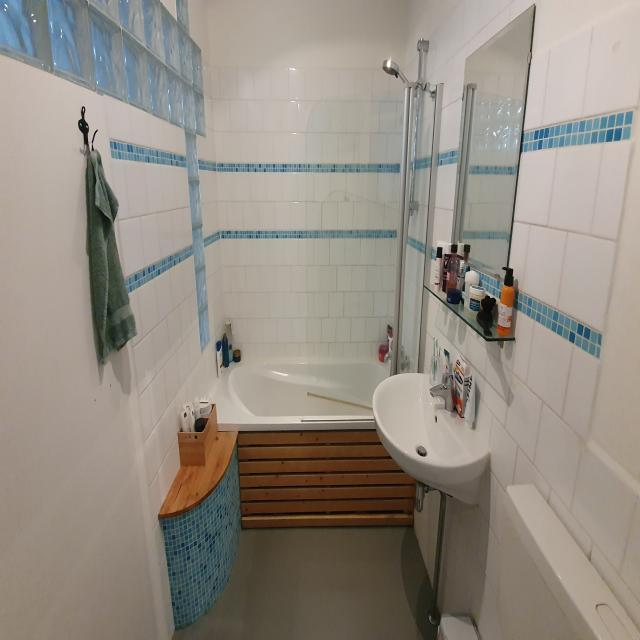bath: (206, 38, 444, 478)
toilet: (494, 481, 640, 639)
wastafel: (372, 360, 492, 512)
